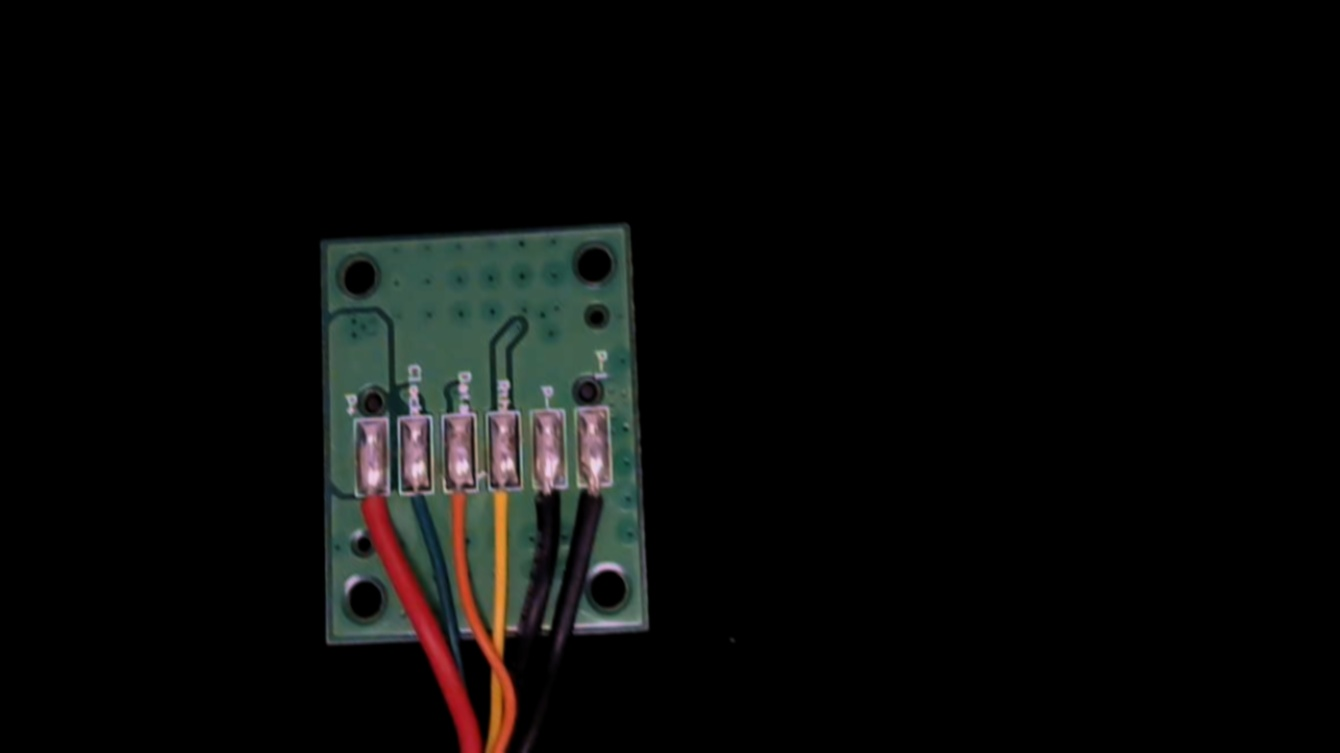Black: (533, 466, 567, 554)
Black1: (577, 469, 610, 542)
Green: (399, 470, 438, 558)
Orange: (444, 469, 481, 559)
Red: (354, 474, 393, 562)
Yellow: (489, 467, 521, 555)
